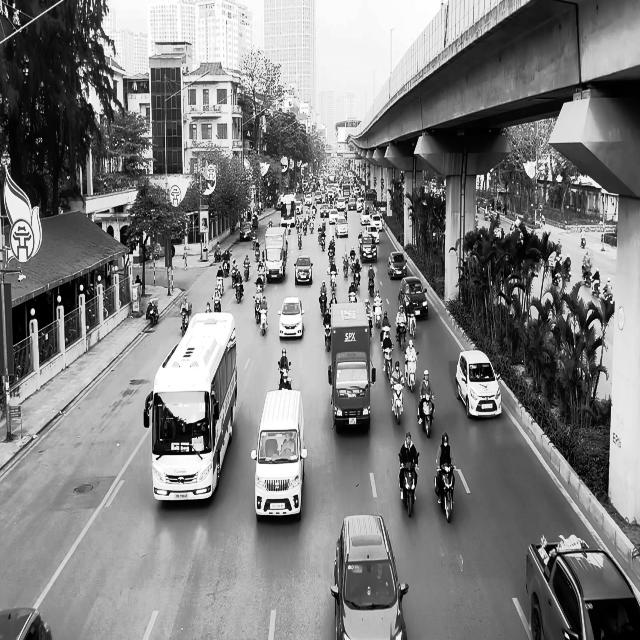bus: (144, 310, 238, 502)
car: (525, 534, 640, 640), (330, 514, 409, 639), (455, 350, 502, 419), (0, 607, 52, 639), (399, 276, 428, 318), (277, 296, 305, 339), (293, 255, 313, 284), (388, 251, 408, 279), (239, 221, 253, 241)
motorbike: (399, 451, 419, 517), (433, 464, 455, 523), (417, 393, 435, 438), (390, 379, 404, 424), (277, 361, 291, 389), (148, 298, 159, 325), (180, 308, 189, 336), (322, 321, 330, 351)
truck: (328, 301, 374, 433), (264, 226, 288, 282)
